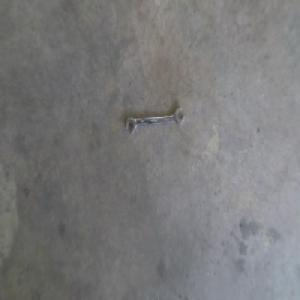Wrench: (121, 106, 189, 137)
